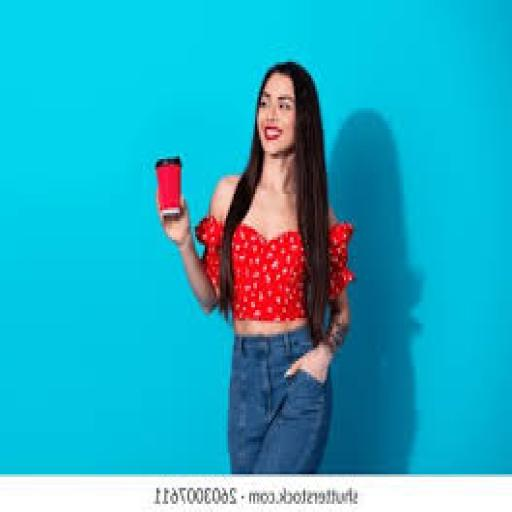red mug: (156, 156, 180, 213)
